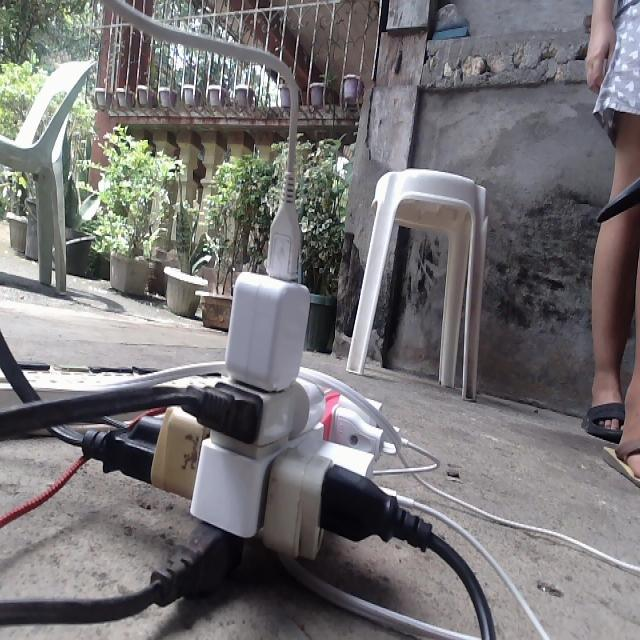-: (128, 236, 400, 561)
